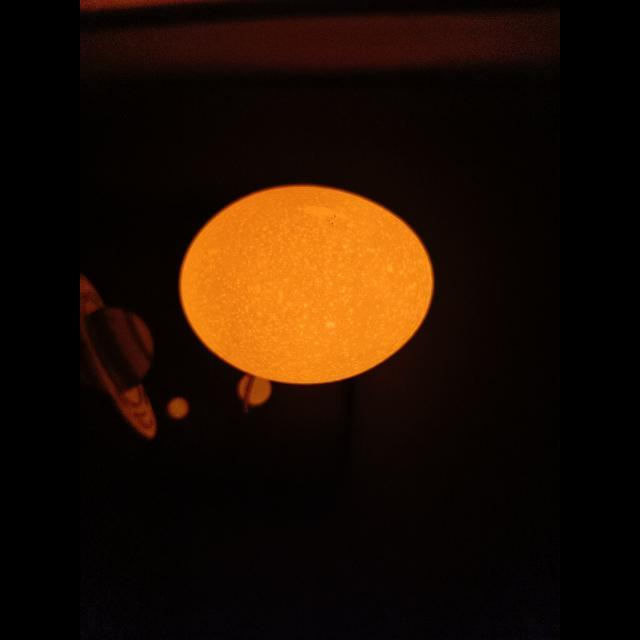AA - Premium: (180, 185, 434, 384)
